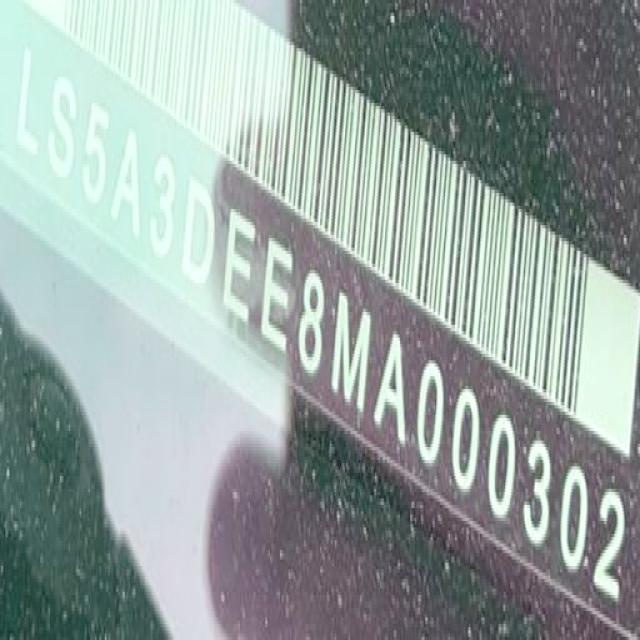0: (482, 394, 524, 532), (554, 443, 595, 582), (448, 375, 490, 507), (412, 352, 452, 479)
2: (590, 476, 633, 620)
3: (142, 140, 188, 272), (522, 431, 554, 555)
5: (80, 96, 111, 208)
8: (292, 257, 334, 397)
A: (371, 312, 417, 457), (106, 112, 154, 244)
D: (180, 163, 226, 299)
E: (215, 192, 264, 336), (255, 224, 303, 358)
L: (1, 29, 56, 168)
M: (324, 267, 379, 423)
S: (48, 76, 78, 180)
